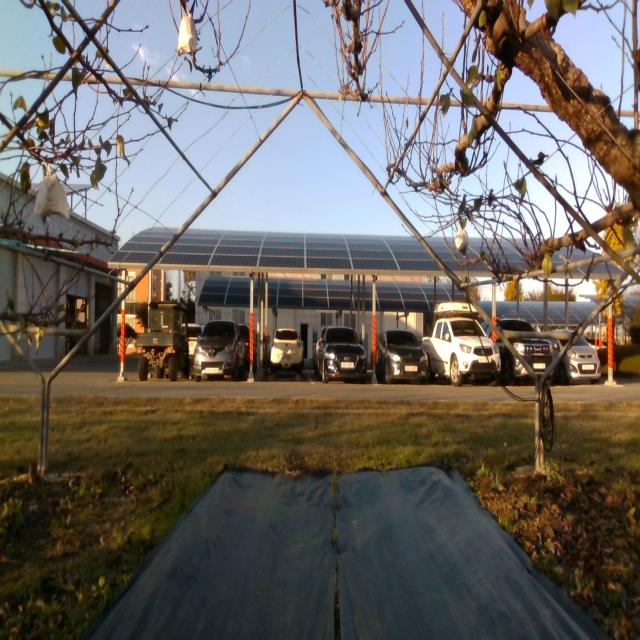pearbags: (34, 176, 69, 219), (176, 13, 197, 57), (454, 228, 468, 255)
